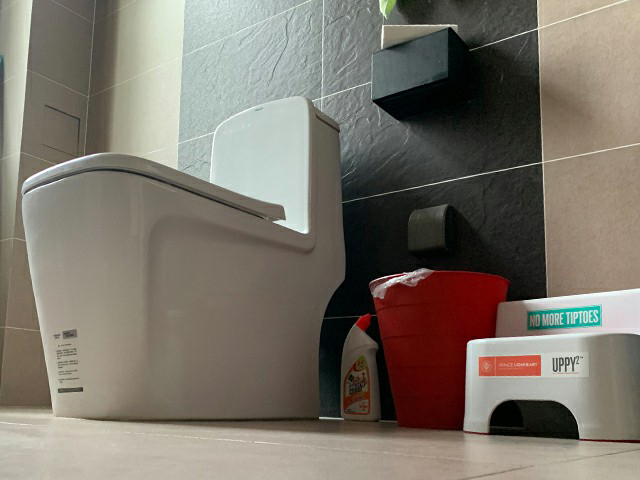closestool: (21, 95, 345, 421)
trashcan: (366, 266, 497, 430)
